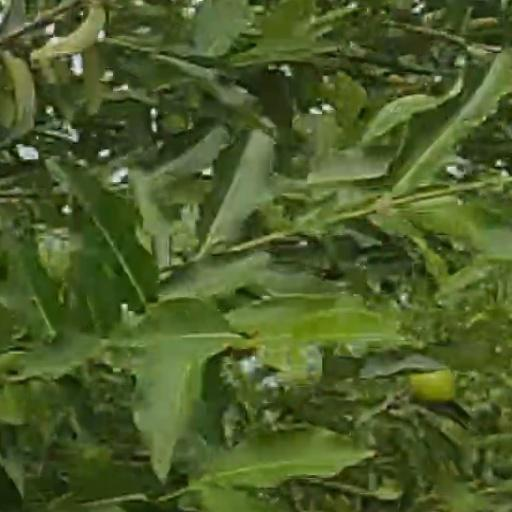acerola: (413, 372, 454, 400)
